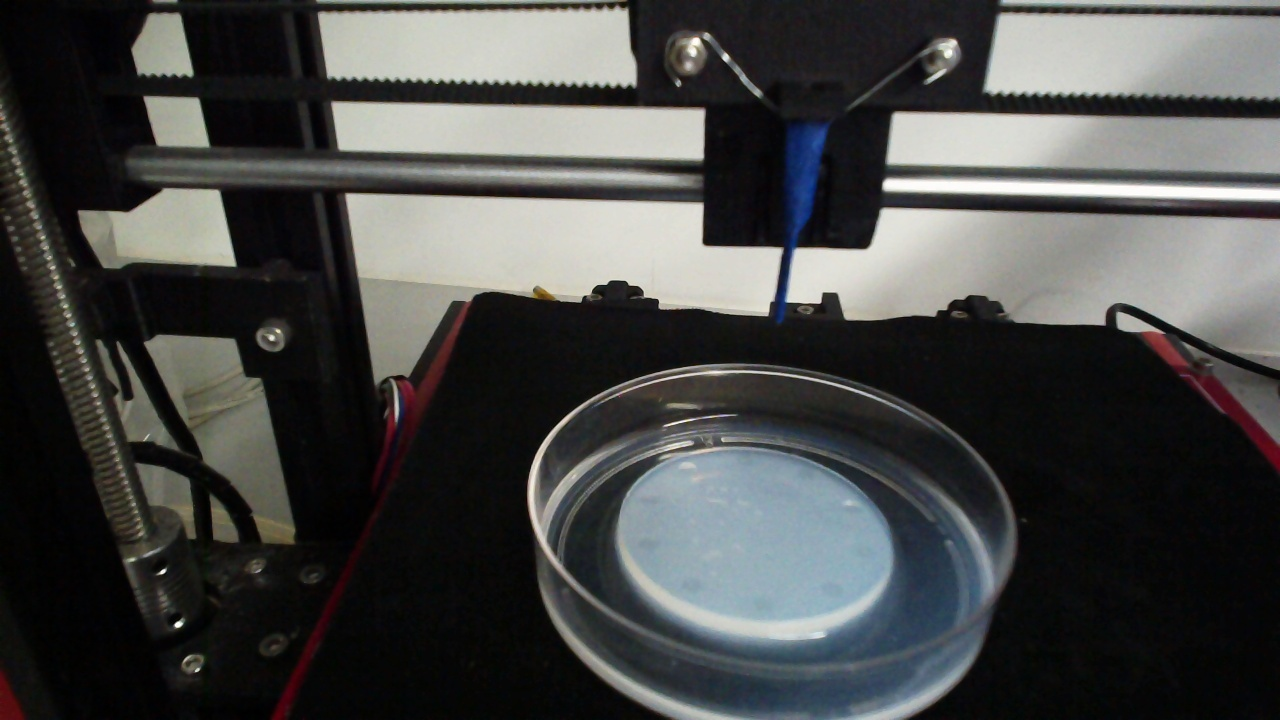groove: (818, 579, 843, 599), (680, 577, 704, 595), (750, 595, 775, 612), (840, 499, 865, 516), (638, 535, 661, 552), (855, 542, 876, 560), (794, 467, 818, 482), (638, 490, 660, 506), (676, 459, 697, 474), (734, 454, 755, 468)
needle: (773, 123, 828, 324)
